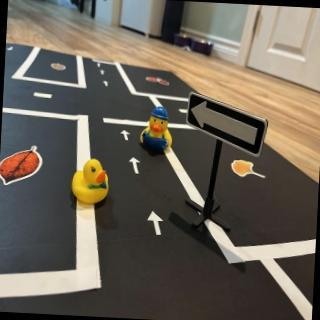duck_regular: (72, 159, 112, 208)
duck_specialty: (139, 105, 175, 159)
road_oneway: (143, 206, 171, 242), (128, 155, 143, 180), (119, 127, 132, 145), (103, 79, 112, 90), (101, 68, 107, 78), (98, 61, 103, 69)
sign_oneway_left: (185, 92, 272, 159)
